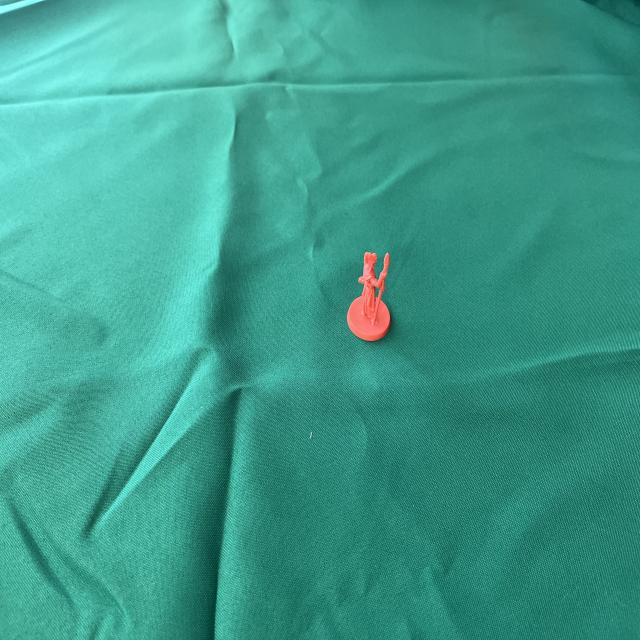amon_follower: (348, 252, 390, 342)
